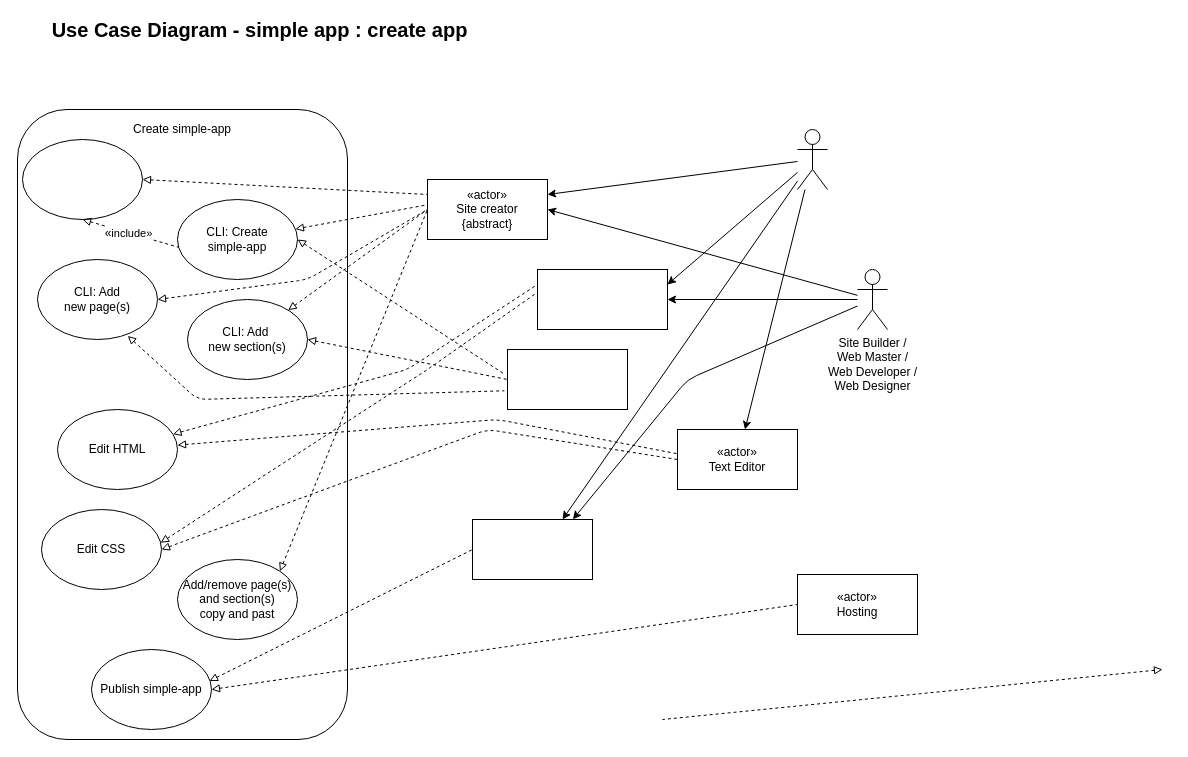
The diagram is 1188 pixels wide and 757 high, and some of its shapes have lost their labels. Each missing label, with the centre of its shape:
DIYer: the point at 812,159
Git clone repo simple-app: the point at 82,179
«actor» HTML/CSS/Javascript Editor {abstract}: the point at 602,299
«actor» simple-app-cli: the point at 567,379
«actor» Site Publisher {abstract}: the point at 532,549
